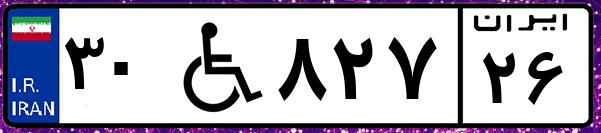0: (110, 28, 158, 98)
2: (330, 28, 385, 110), (475, 38, 525, 113)
3: (57, 26, 110, 100)
6: (525, 38, 570, 115)
7: (385, 28, 445, 110)
8: (270, 28, 330, 110)
ژ (معلولین و جانبازان): (158, 12, 270, 120)
